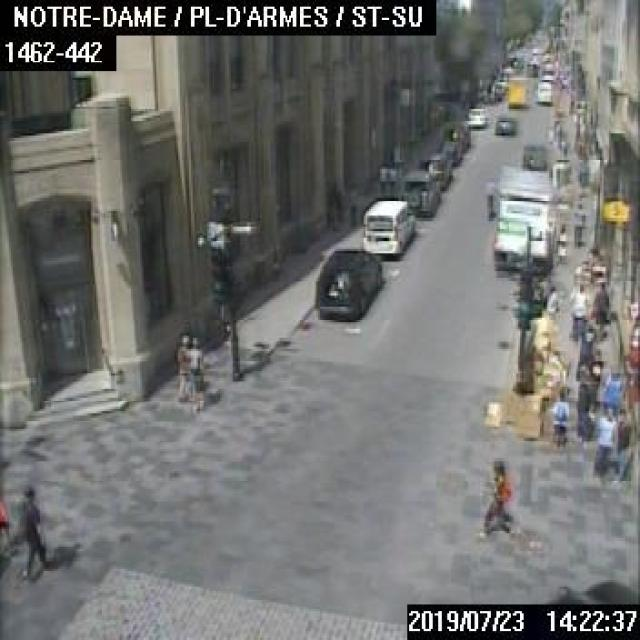pedestrian: (478, 456, 516, 538), (18, 482, 47, 578), (575, 356, 596, 437), (612, 406, 632, 478), (595, 406, 615, 478), (187, 335, 206, 409), (549, 382, 569, 447), (570, 282, 590, 338), (175, 333, 189, 405), (591, 281, 608, 338), (577, 321, 597, 359), (571, 201, 585, 246), (553, 222, 566, 262), (576, 152, 588, 195)
vehicle: (482, 167, 551, 271), (311, 250, 380, 320), (360, 196, 416, 256), (400, 170, 439, 216), (418, 154, 452, 186), (521, 140, 550, 168), (442, 121, 468, 150), (436, 138, 460, 162), (493, 114, 516, 135), (464, 106, 487, 126), (506, 80, 523, 106), (534, 80, 552, 104), (539, 72, 552, 82), (540, 62, 552, 70)
